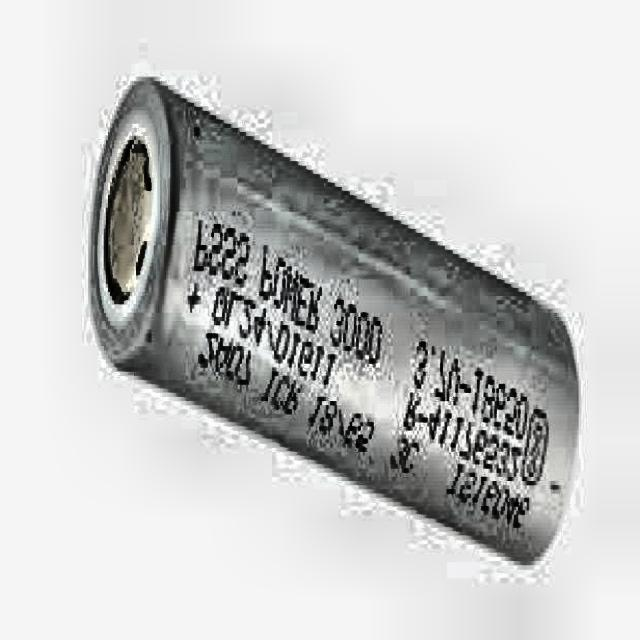battery: (89, 81, 577, 565)
